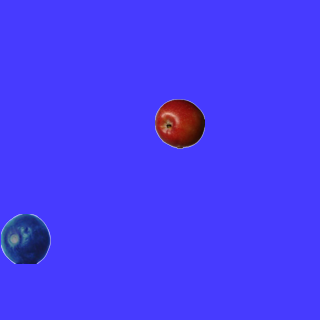Apple Braeburn: (154, 98, 204, 148)
Huckleberry: (0, 213, 50, 263)
